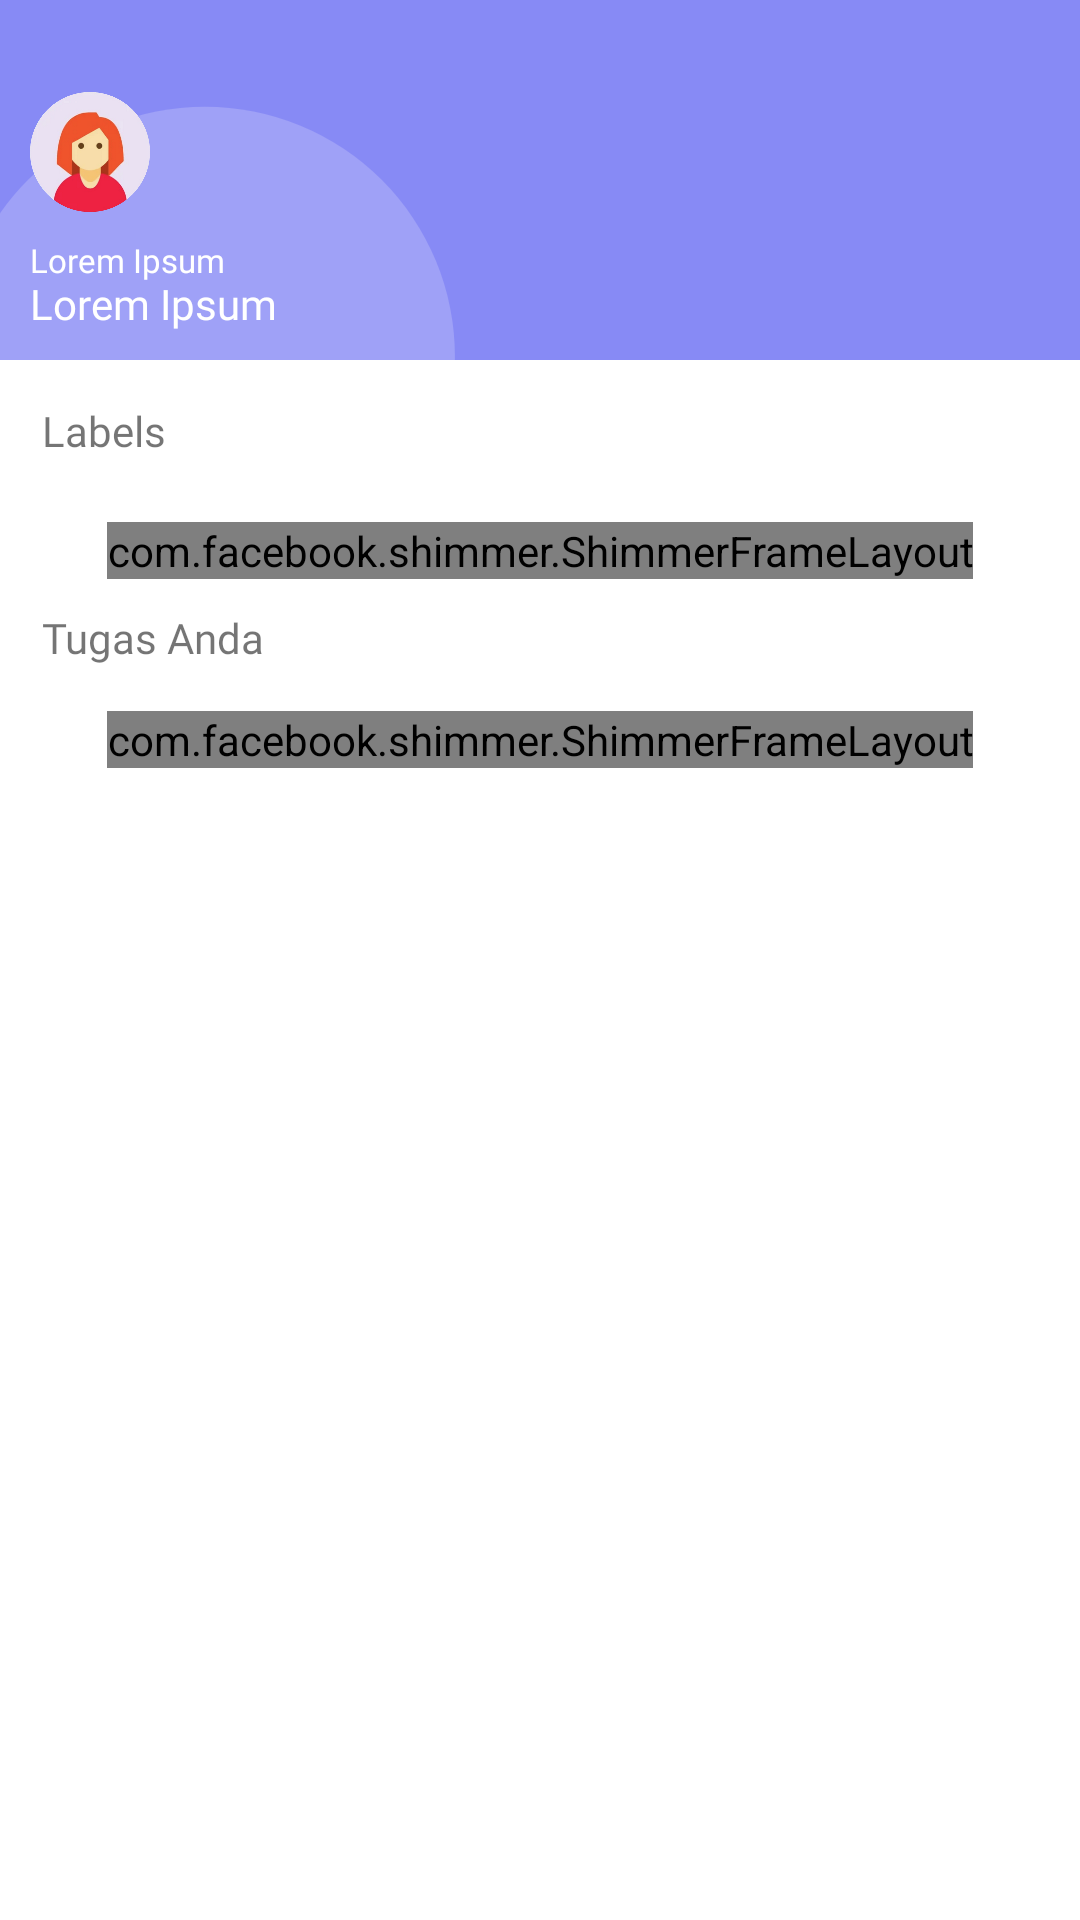

Icon bounding boxes for this 1080x1920 phone screenshot, format [x1, y1, x2, y2]:
profile: [30, 92, 150, 212]
